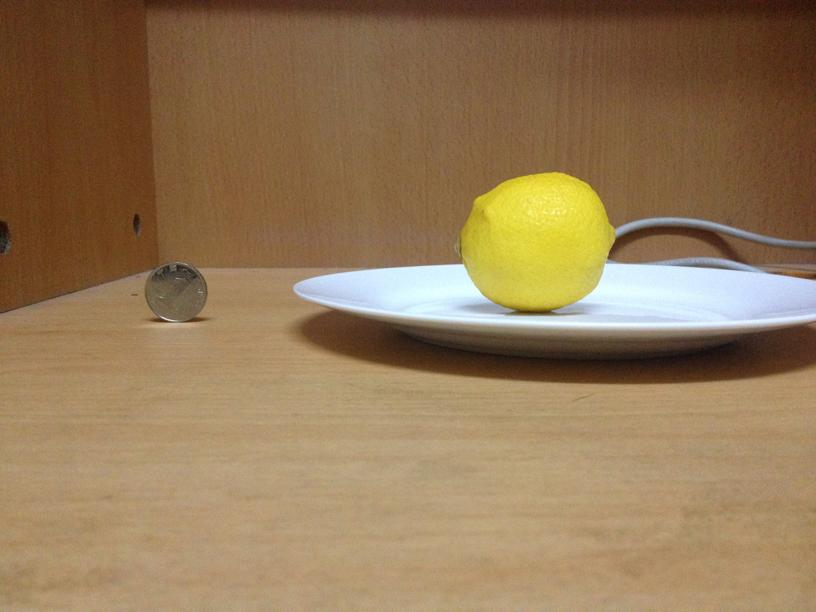coin: (144, 260, 207, 322)
lemon: (455, 168, 611, 309)
